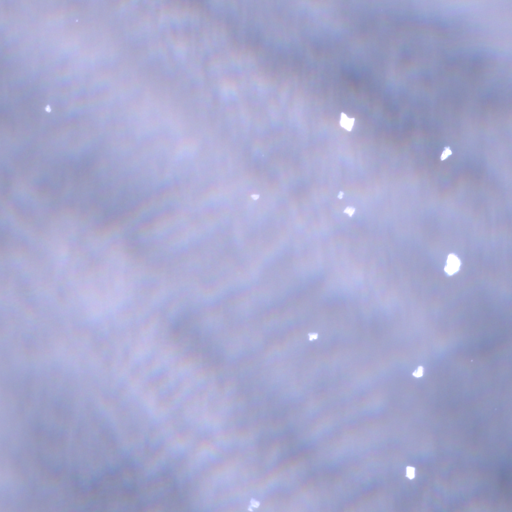Iceberg: (444, 254, 460, 274), (340, 112, 354, 130), (440, 147, 452, 160), (248, 498, 260, 510), (405, 466, 415, 479), (412, 366, 422, 377), (343, 206, 354, 215), (309, 333, 318, 340), (337, 191, 343, 198), (251, 194, 258, 200), (45, 105, 50, 112), (76, 20, 77, 21)
